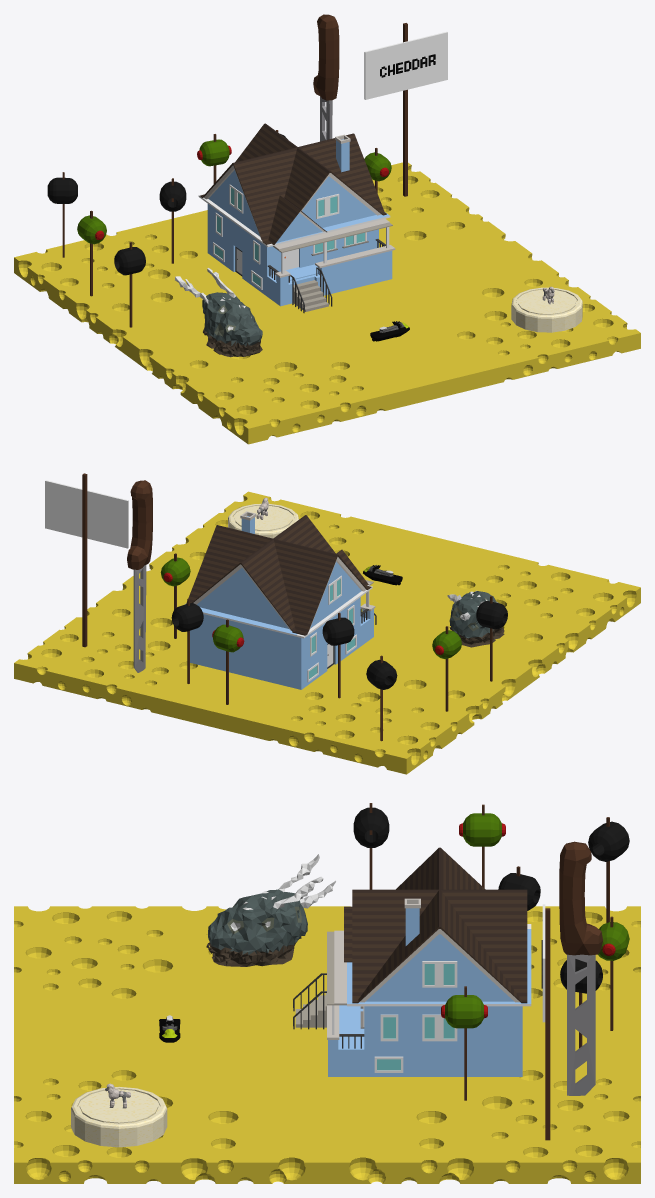
3 views of the same model, one above another, from view 1: azimuth 30°, elevation 25°; view 2: azimuth 150°, elevation 25°; view 3: azimuth 270°, elevation 25° (orthographic). The views are drawn at different scales.
Parts seen in each view (by area): view 1: Cube.022, Cube.1594, Cube.023, OBJRANDOM_METEORITE, Cylinder.016, Cube.024, Sphere.017, Sphere.016, Sphere.020, Sphere.018, Sphere.022, Sphere.019; view 2: Cube.022, Cube.1594, Cube.023, Cube.024, OBJRANDOM_METEORITE, Cylinder.016, Sphere.017, Sphere.020, Sphere.021, Sphere.016, Sphere.018, Sphere.022 (+2 smaller); view 3: Cube.022, Cube.1594, OBJRANDOM_METEORITE, Cube.024, Cylinder.016, Cube.023, Sphere.019, Sphere.016, Sphere.018, Sphere.017, Sphere.022, Sphere.020 (+1 smaller).
Boxes of the visible parts, x1,y1,x2,y2 form: Cube.022: [14, 162, 640, 444]; Cube.1594: [198, 123, 395, 313]; Cube.023: [364, 23, 447, 196]; OBJRANDOM_METEORITE: [175, 268, 262, 357]; Cylinder.016: [511, 287, 582, 332]; Cube.024: [313, 14, 339, 141]; Sphere.017: [114, 242, 145, 327]; Sphere.016: [47, 172, 77, 257]; Sphere.020: [159, 178, 186, 263]; Sphere.018: [77, 210, 106, 296]; Sphere.022: [197, 134, 231, 183]; Sphere.019: [364, 148, 391, 192]; Cube.022: [14, 491, 640, 774]; Cube.1594: [185, 511, 376, 689]; Cube.023: [45, 473, 128, 647]; Cube.024: [127, 480, 152, 672]; OBJRANDOM_METEORITE: [447, 590, 504, 647]; Cylinder.016: [228, 503, 298, 538]; Sphere.017: [476, 596, 507, 681]; Sphere.020: [322, 612, 354, 698]; Sphere.021: [171, 598, 203, 683]; Sphere.016: [366, 655, 397, 741]; Sphere.018: [432, 626, 461, 711]; Sphere.022: [212, 619, 244, 704]; Cube.022: [14, 906, 640, 1183]; Cube.1594: [293, 847, 531, 1076]; OBJRANDOM_METEORITE: [206, 854, 335, 966]; Cube.024: [559, 841, 602, 1095]; Cylinder.016: [71, 1086, 167, 1147]; Cube.023: [541, 904, 550, 1140]; Sphere.019: [441, 986, 487, 1100]; Sphere.016: [588, 817, 629, 922]; Sphere.018: [459, 804, 505, 887]; Sphere.017: [353, 803, 389, 889]; Sphere.022: [598, 916, 629, 1030]; Sphere.020: [498, 866, 540, 910].
Bounding box in the file's own units: 3917 × 2010 × 4000.
31 materials, 3 textured.
